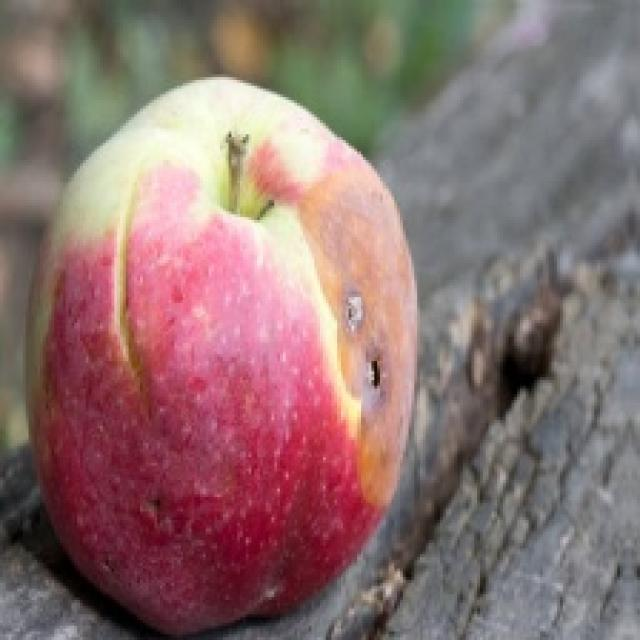rotten_apple: (37, 80, 412, 632)
